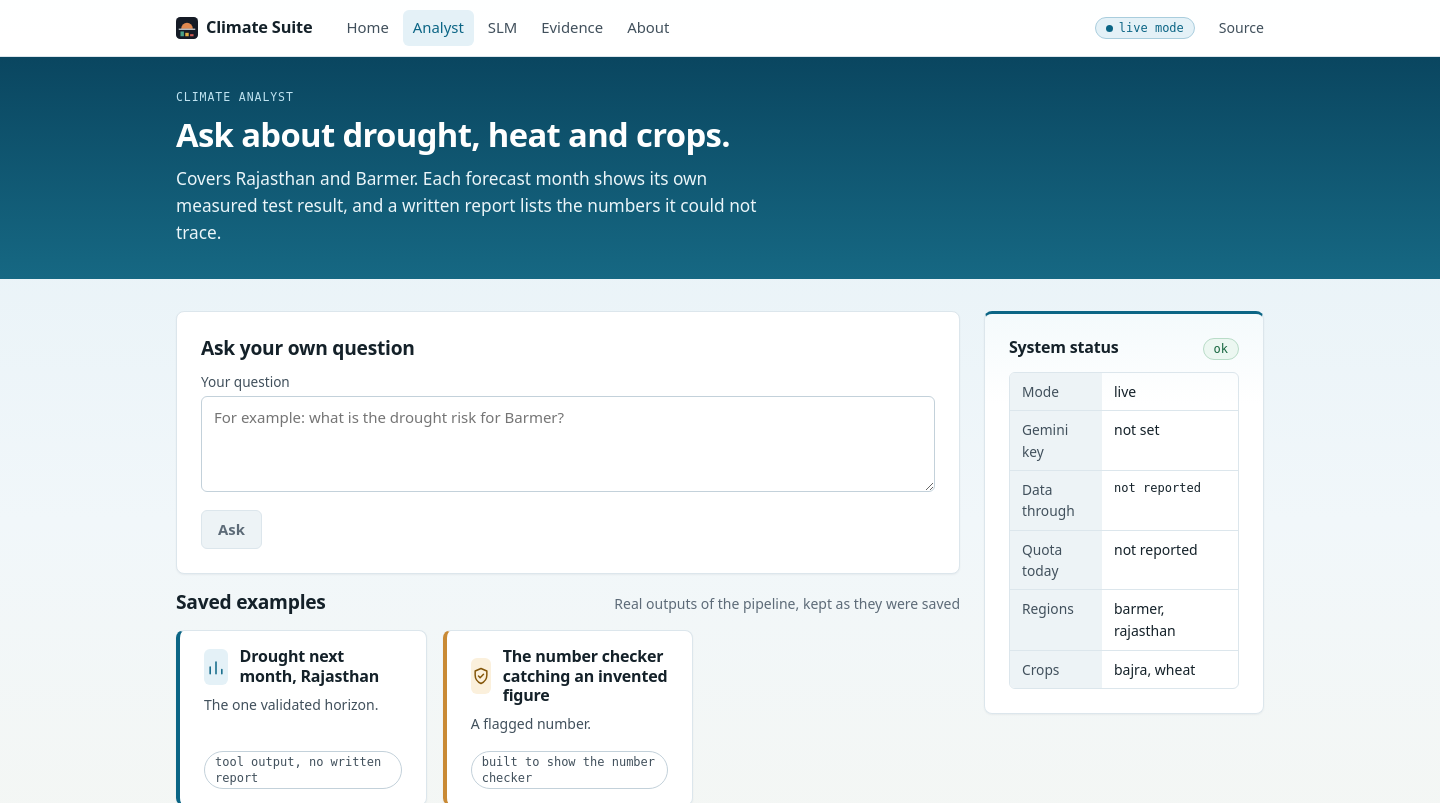
it: home page › live mode: a free-text question is posted to /report and the written report is shown
Type "will it be dry in Barmer?" into the text box at (568,444), box [201,396,935,492]
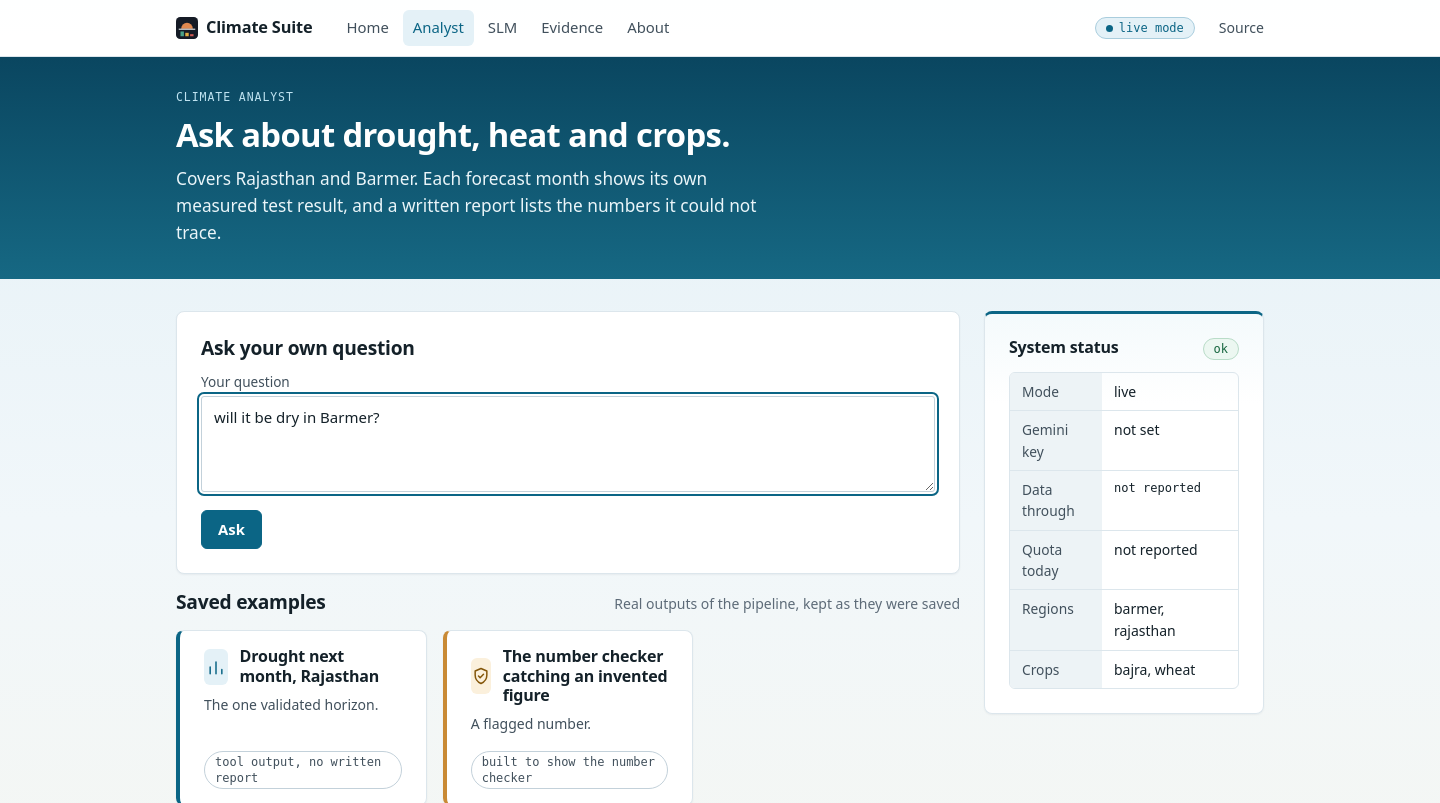
Click the button "Ask" at (231,529), box [201,510,262,549]
(page scrolled)
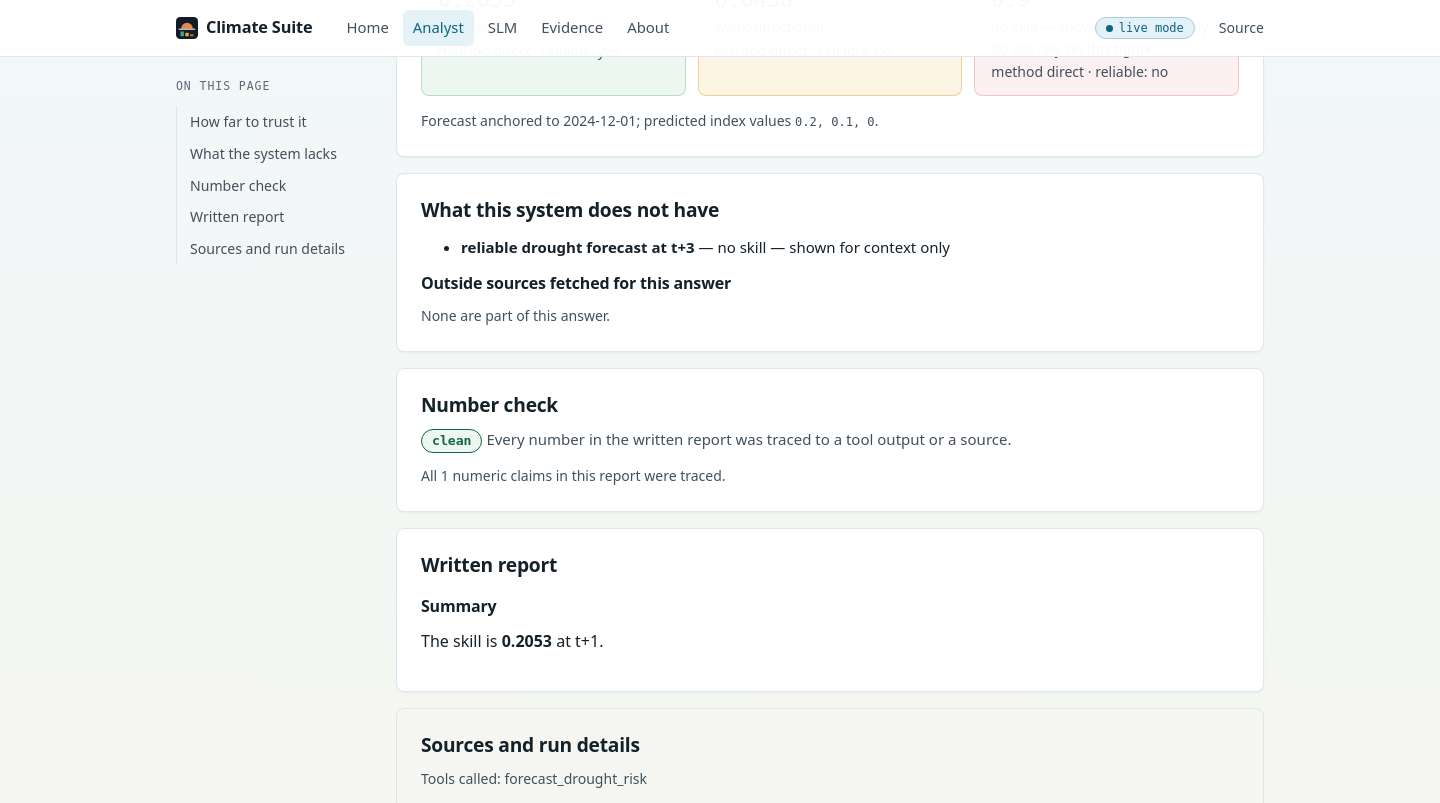
Result: the heading "Summary" is shown at [421,595,496,617]
Result: the text with test id "grounding-status" reads "clean" at [432,433,472,448]
